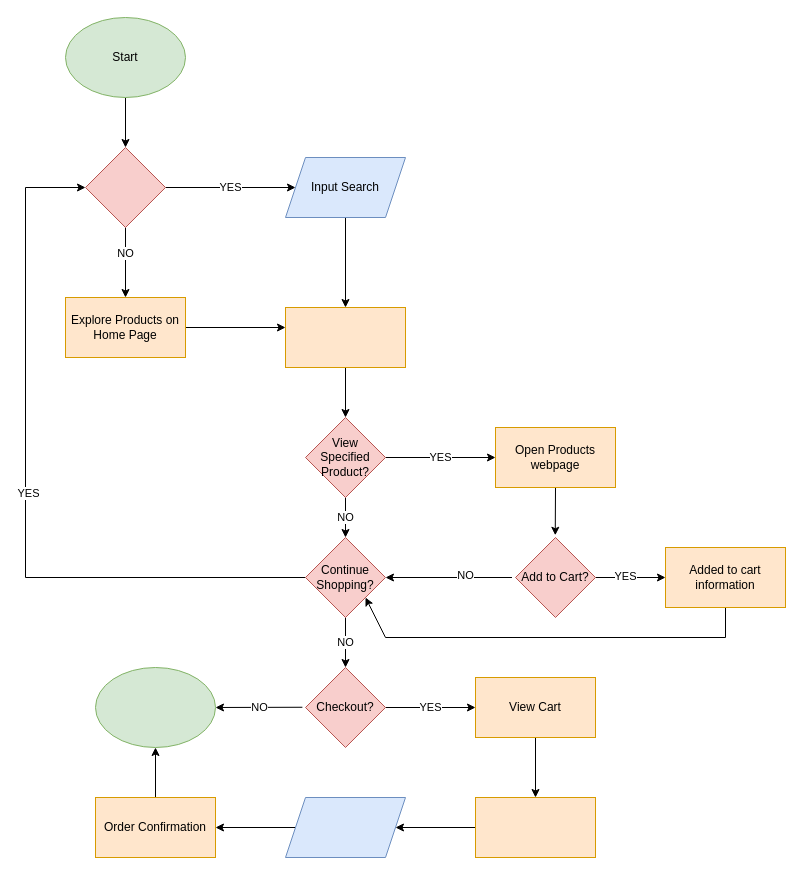
Some shapes in this 803 by 875 pixel diagram are drawn without their labels. Each missing label, with the centre of its shape:
"Browse Products" belongs at (345,337).
"Exit Website" belongs at (155,707).
"Input Payment Information" belongs at (345,827).
"Search for a product?" belongs at (125,187).
"View Payment" belongs at (535,827).
